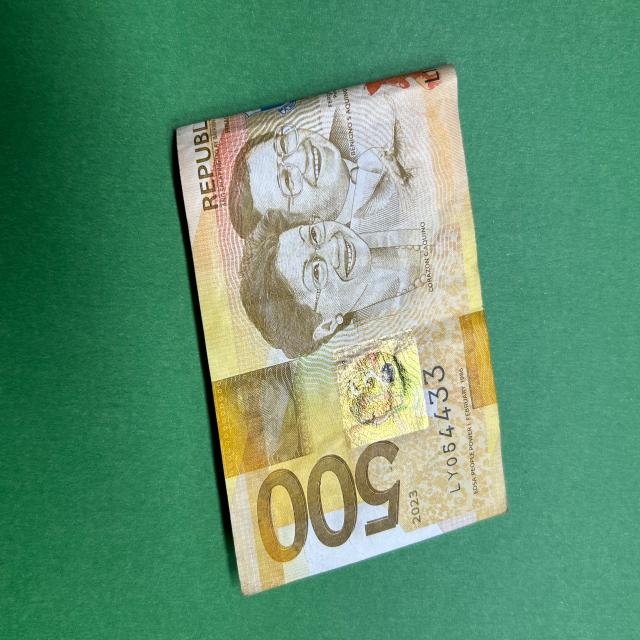concealed_value: (211, 361, 317, 480)
optically_variable_device: (332, 326, 430, 450)
serial_number: (417, 359, 472, 506)
value: (245, 437, 408, 577)
